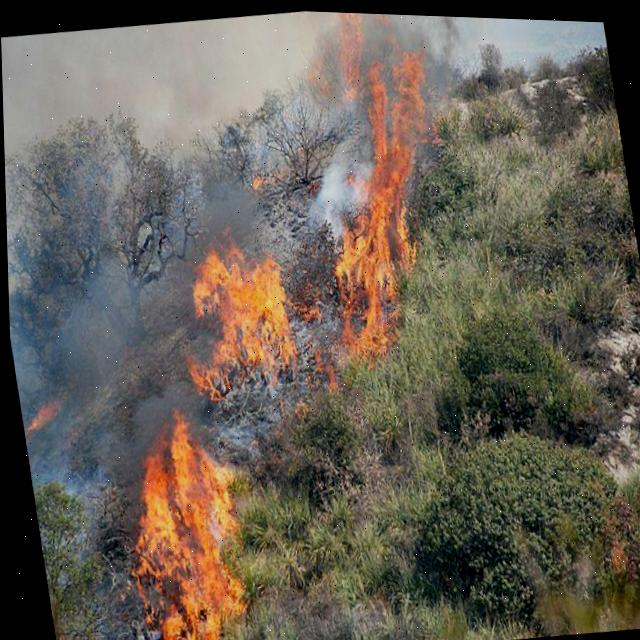fire: (4, 114, 200, 640), (186, 10, 428, 435), (101, 409, 241, 640)
smoke: (1, 9, 490, 640)
